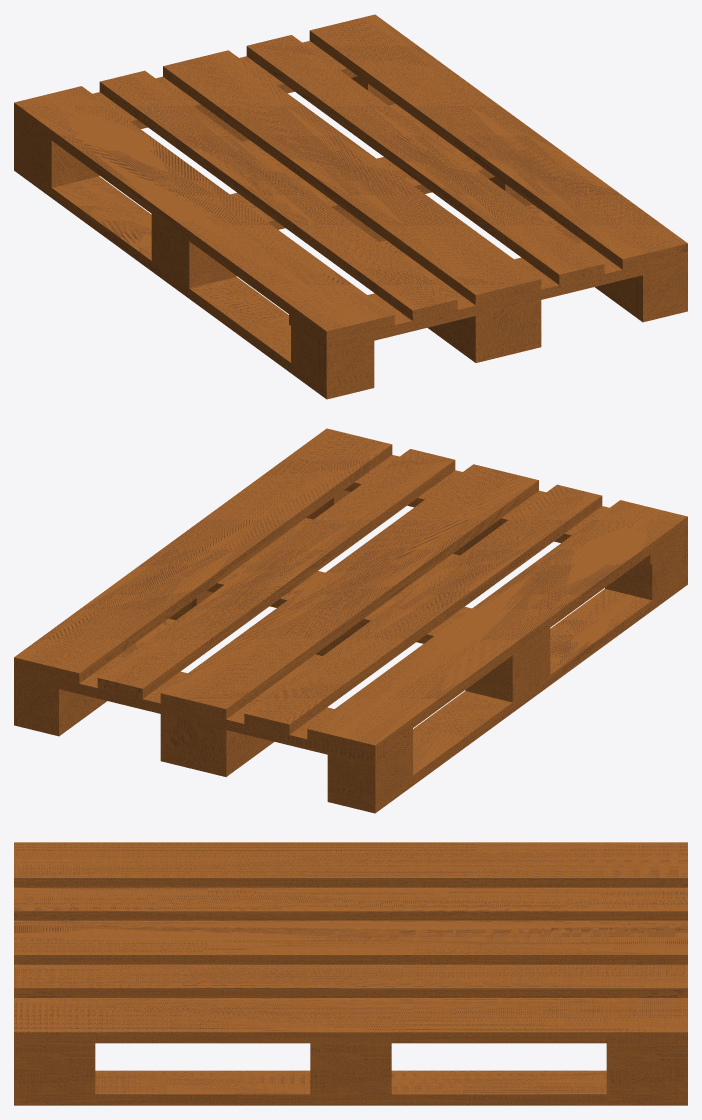
3 renders of one model, top to bottom at view 1: azimuth 30°, elevation 25°; view 2: azimuth 150°, elevation 25°; view 3: azimuth 270°, elevation 25°, orthographic. The views are drawn at different scales.
Visible parts, largest first — view 1: Drawing1.dwg; view 2: Drawing1.dwg; view 3: Drawing1.dwg.
Part boxes in pixels (x1,y1,x2,y2): Drawing1.dwg: (14,14,687,399); Drawing1.dwg: (14,428,687,813); Drawing1.dwg: (14,842,687,1105).
Size of the model in its own units: 31496 by 47244 by 5669.
2 materials, 2 textured.
